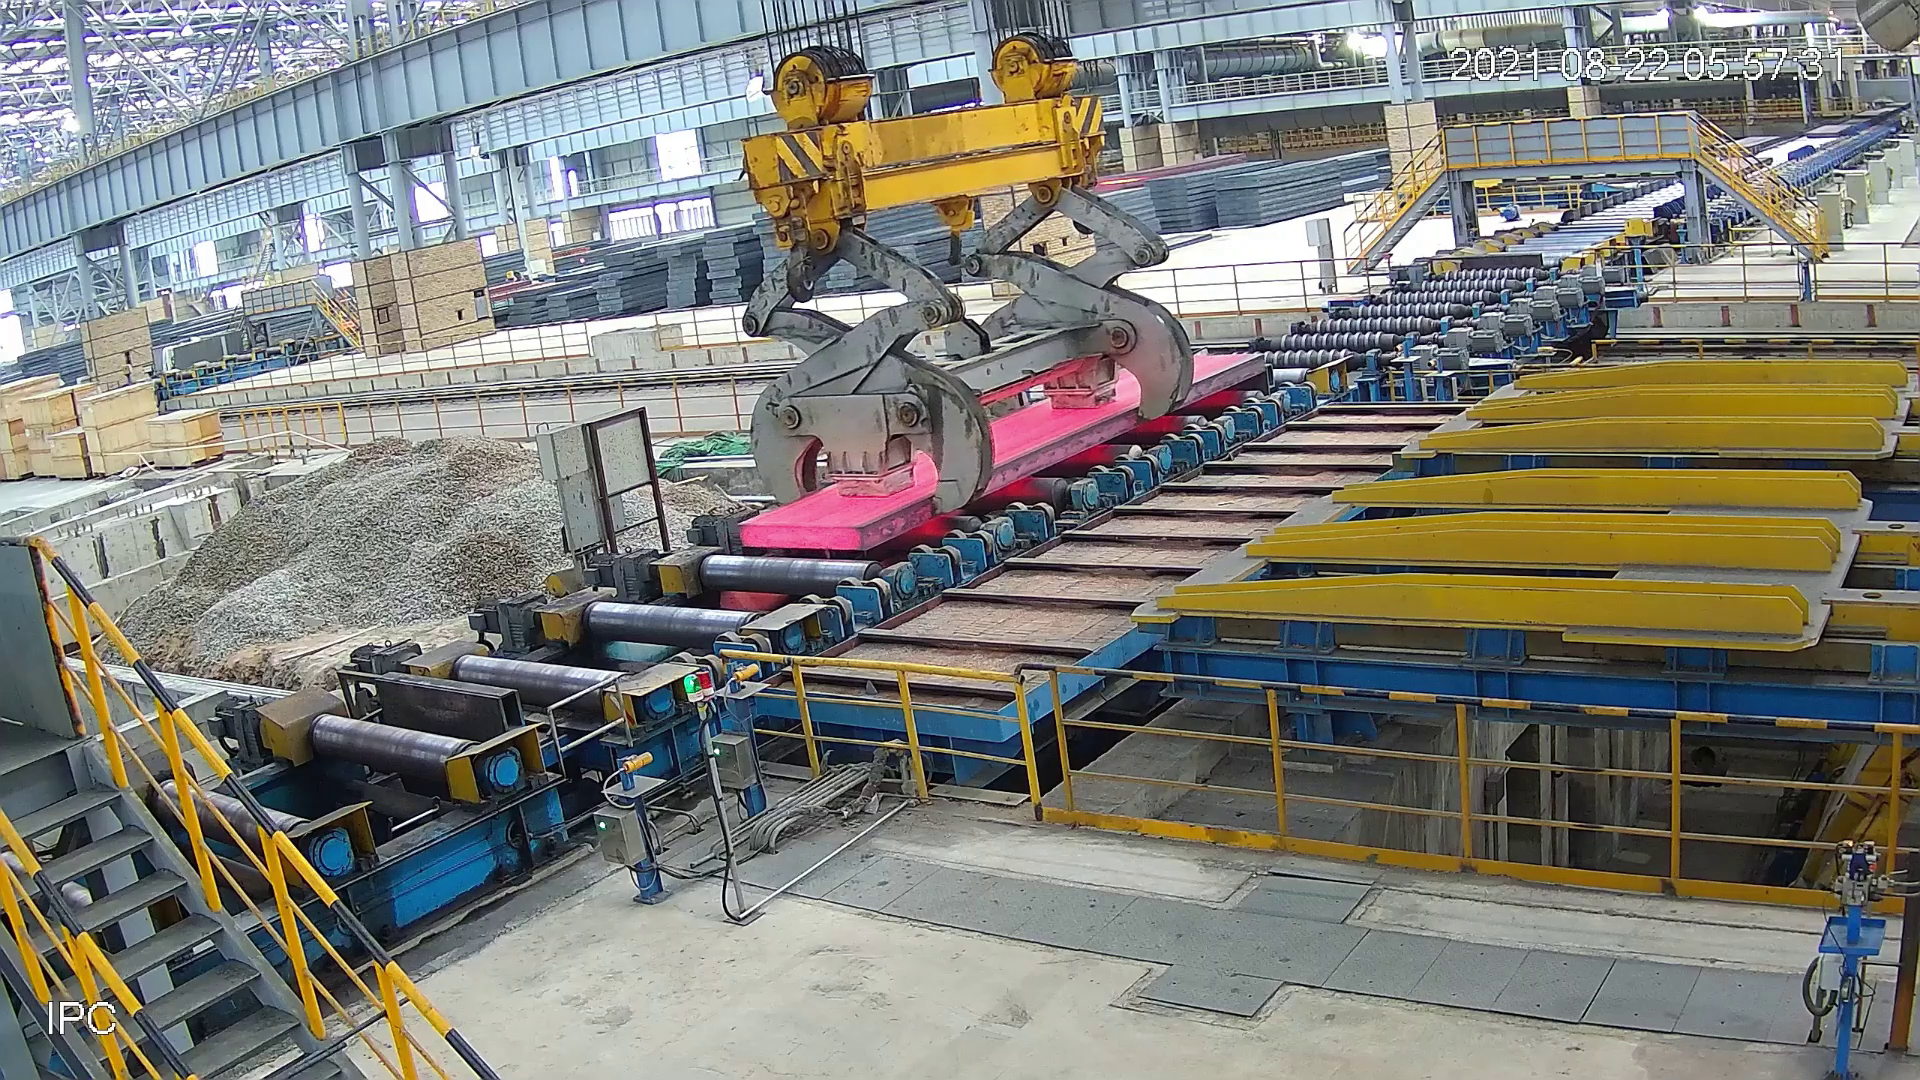craneandslab: (724, 24, 1273, 555)
